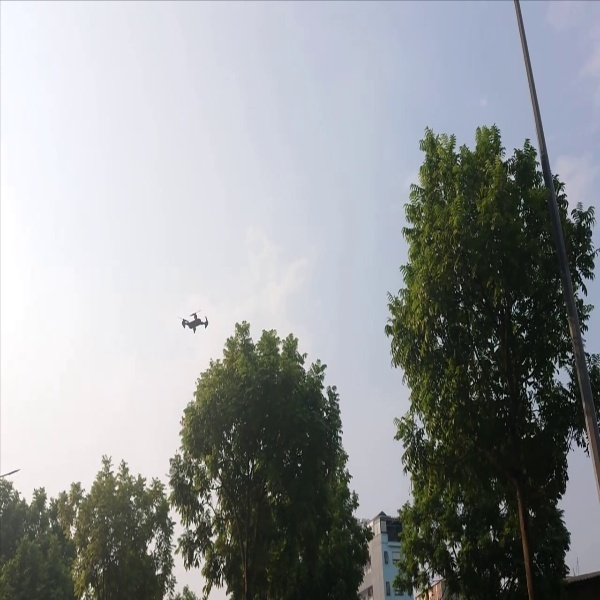drone: (172, 306, 214, 339)
